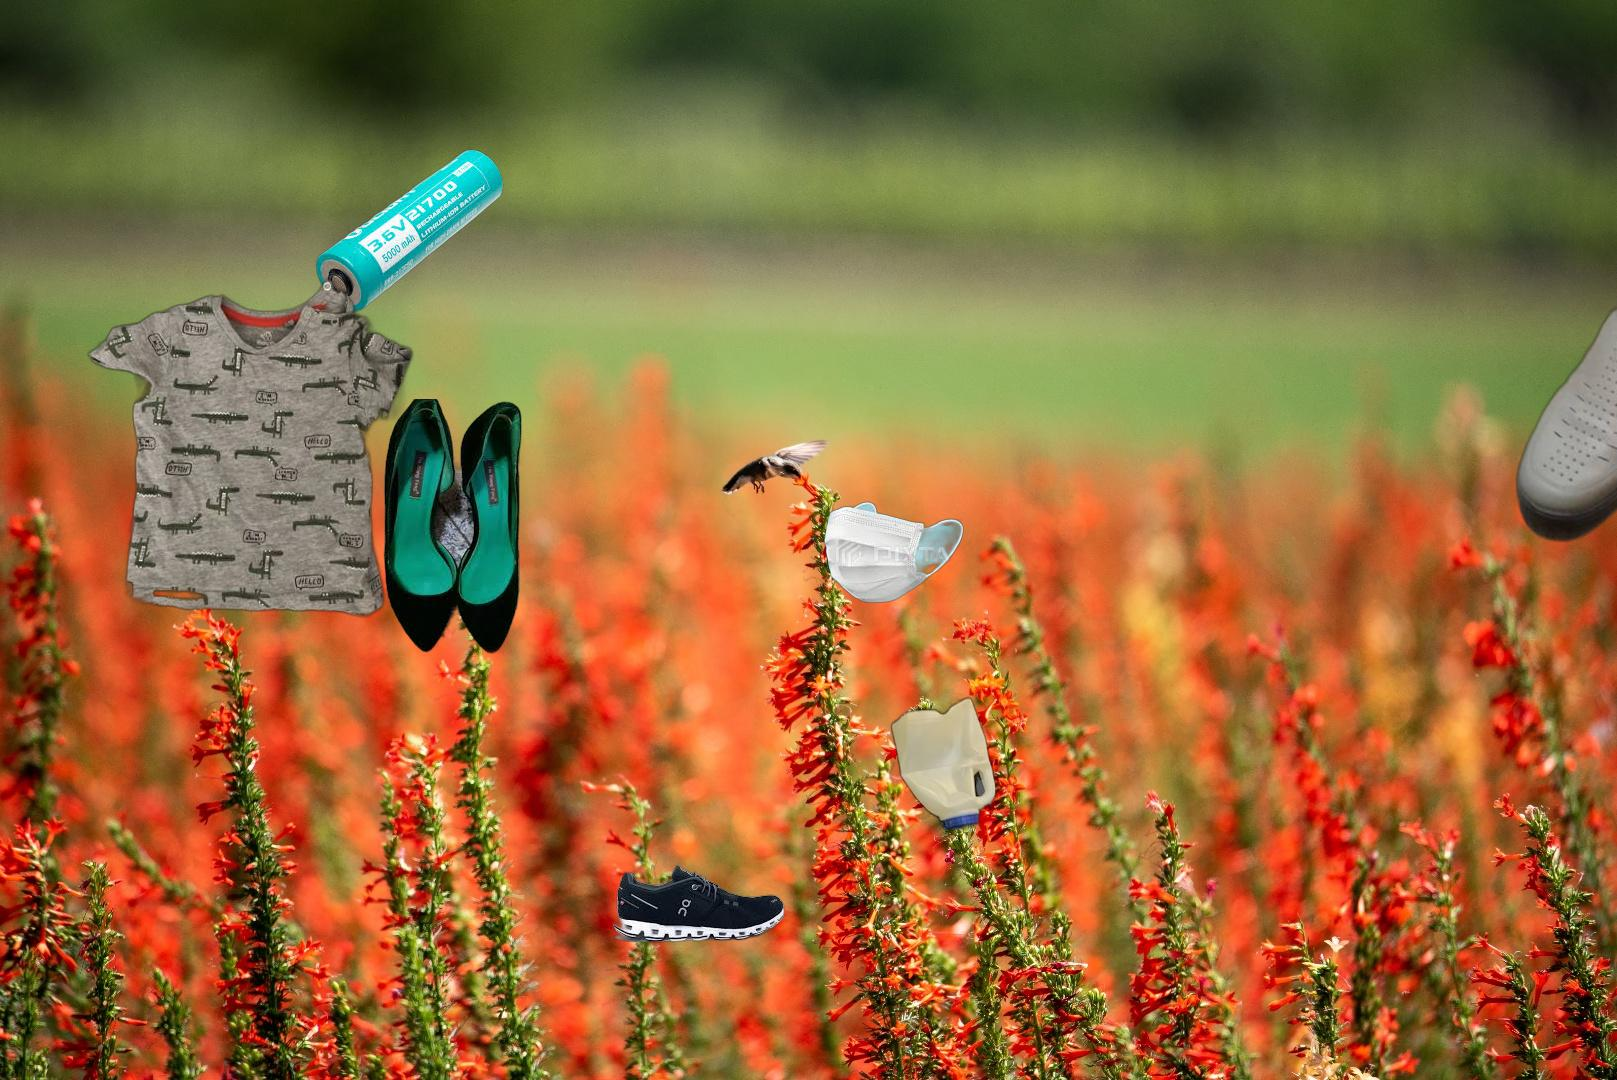battery: (313, 147, 506, 315)
clothes: (86, 271, 416, 621)
plastic-bottles: (886, 692, 1001, 837)
shoes: (1512, 235, 1617, 682), (381, 399, 524, 655), (608, 863, 787, 945)
trash: (822, 499, 966, 606)
